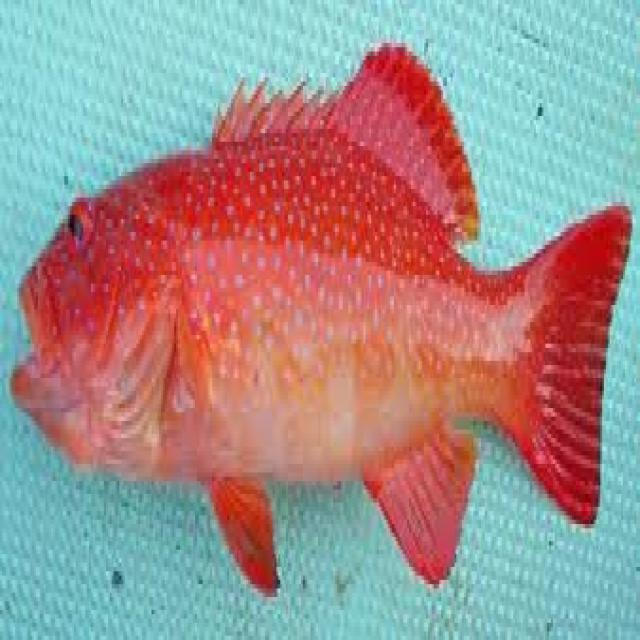Plectropomus-leopardus: (1, 30, 638, 607)
